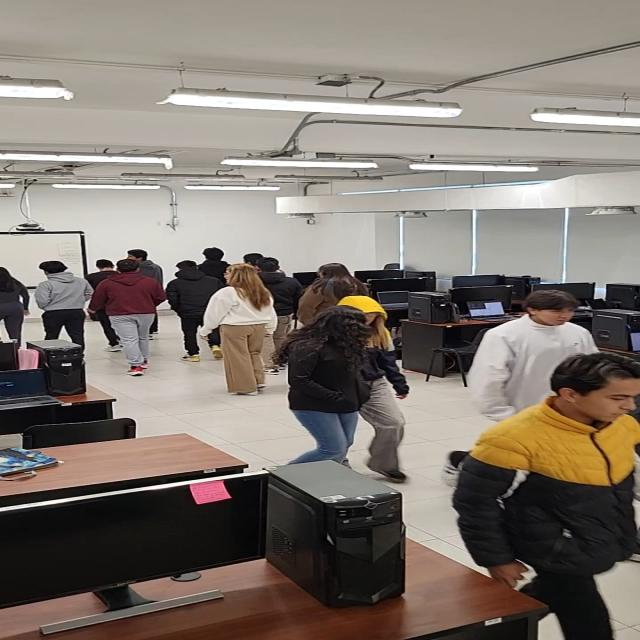Persona: (460, 356, 639, 640), (282, 305, 369, 479), (482, 289, 570, 404), (205, 259, 272, 395), (90, 257, 161, 379), (32, 257, 86, 355), (165, 260, 210, 362), (303, 258, 351, 314), (0, 264, 27, 349)
